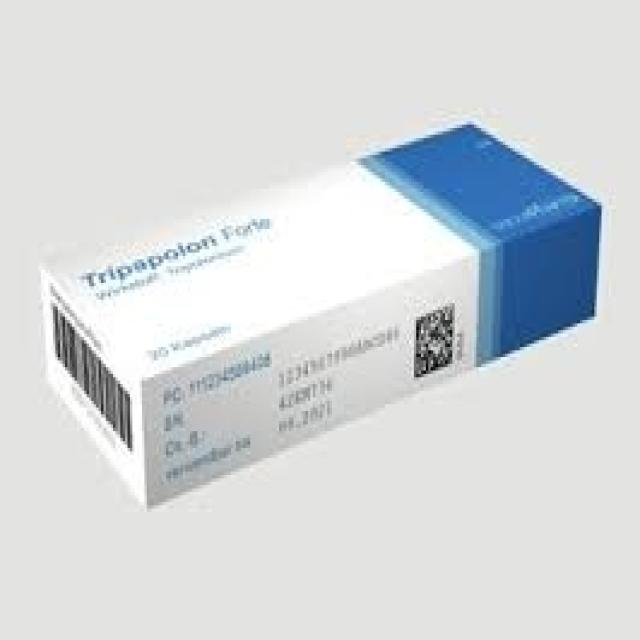datamatrix: (412, 296, 457, 381)
